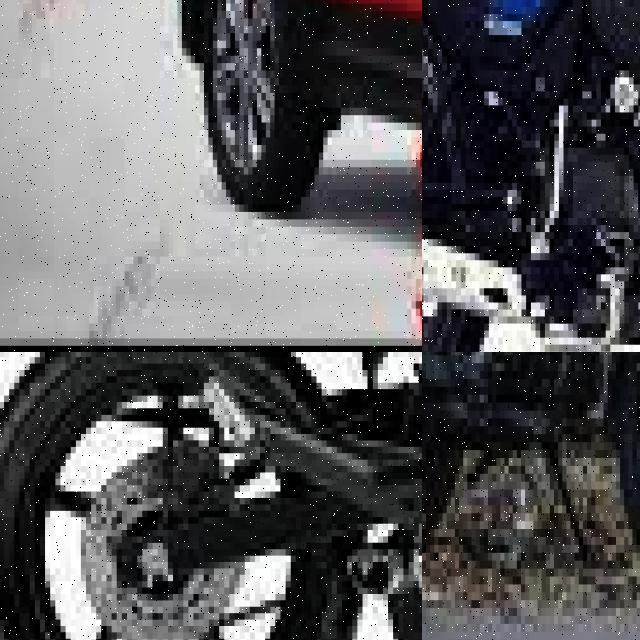bike: (0, 352, 422, 640), (422, 0, 640, 352), (422, 352, 640, 624)
car: (115, 0, 422, 271)
